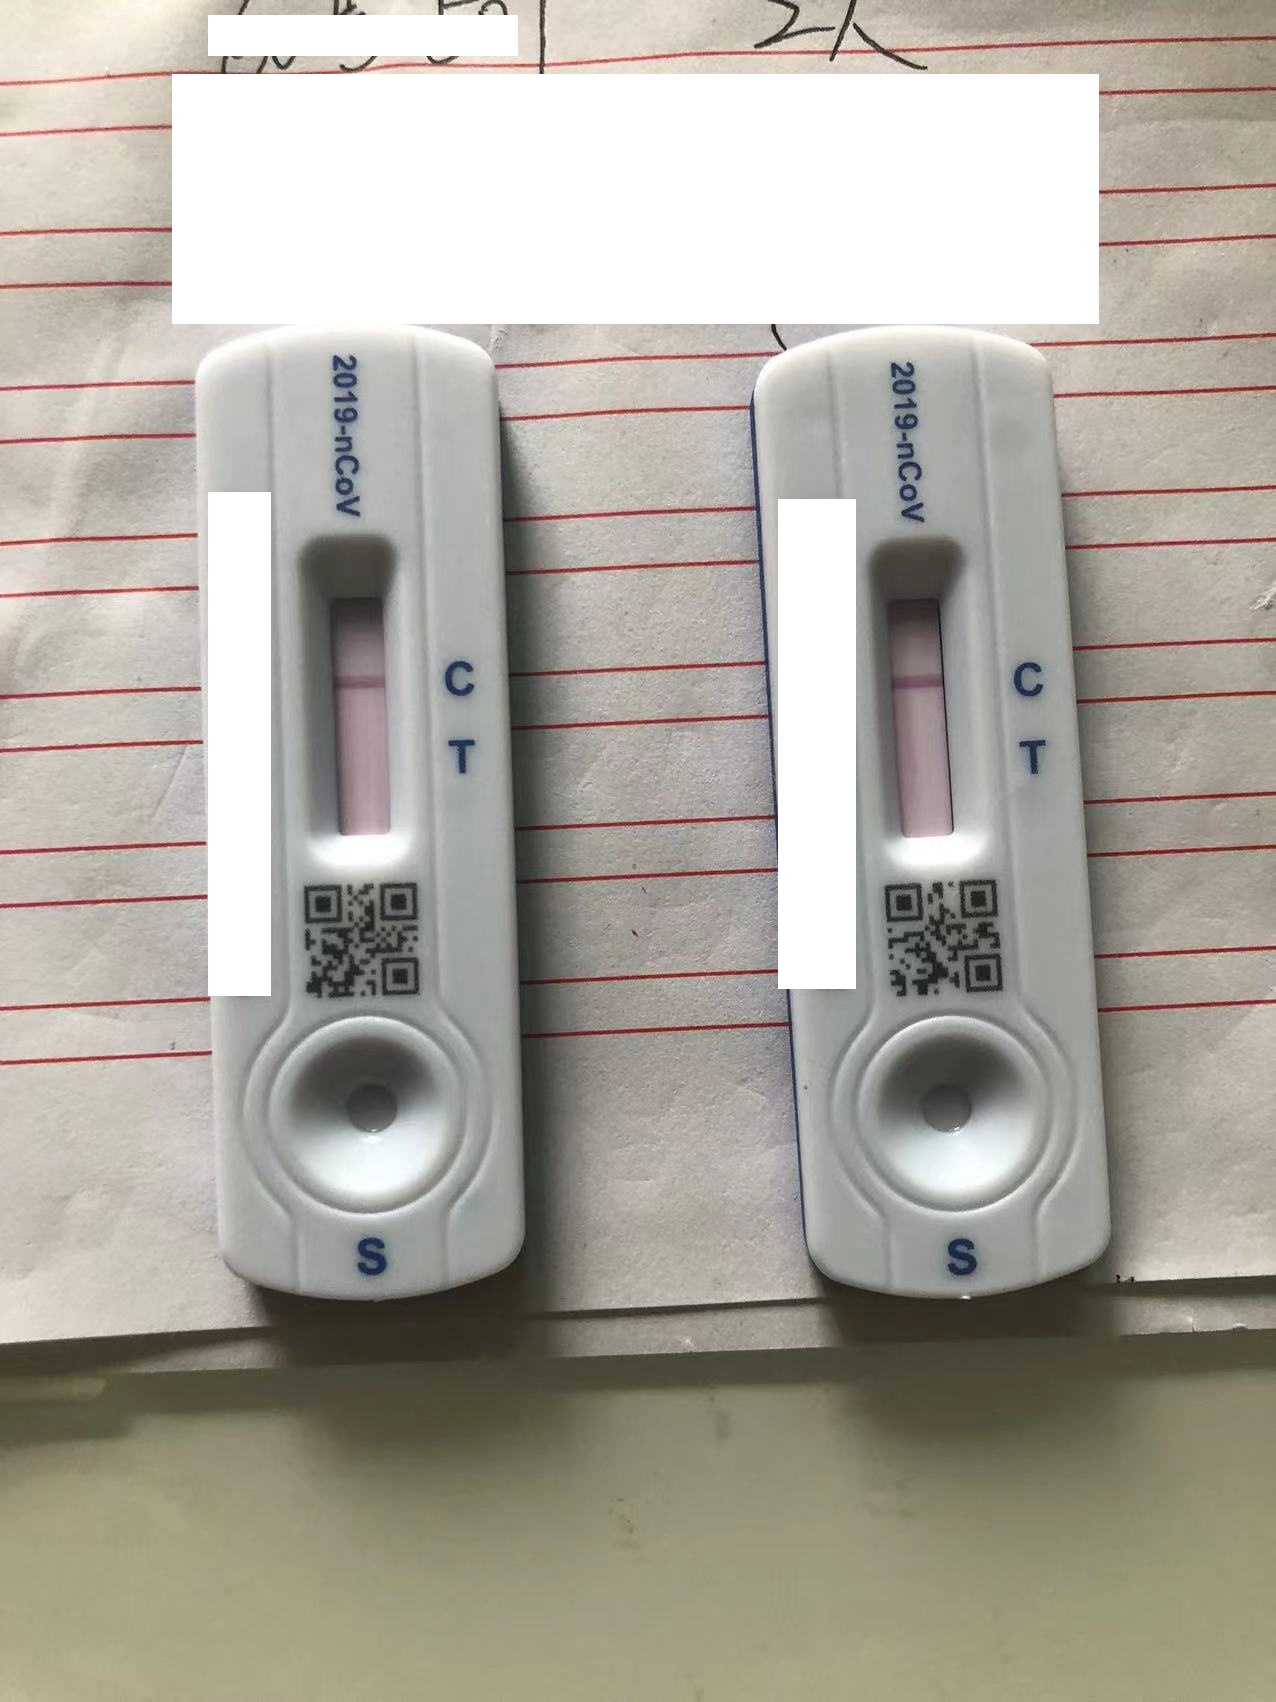negative: (870, 529, 973, 872), (304, 528, 405, 876)
